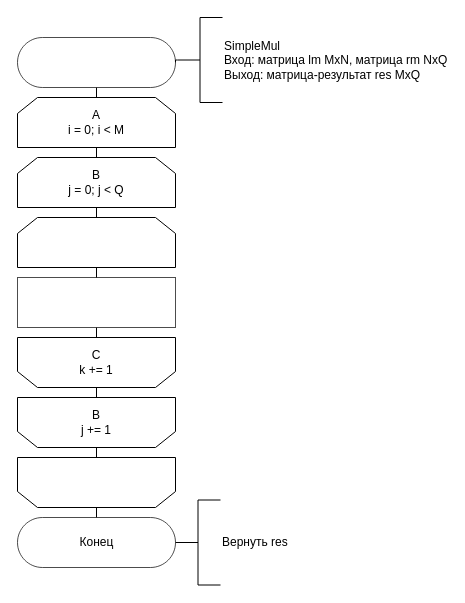
Some shapes in this 465 by 603 pixel diagram are drawn without their labels. Here are the shapes that lost their labels. From the top down, the centre of each, then its label:
At (x=96, y=62): "Начало".
At (x=96, y=242): "C k = 0; k < N".
At (x=96, y=302): "res[i][j] = res[i][j] + lm[i][k] * rm[k][j]".
At (x=96, y=482): "A i += 1".
